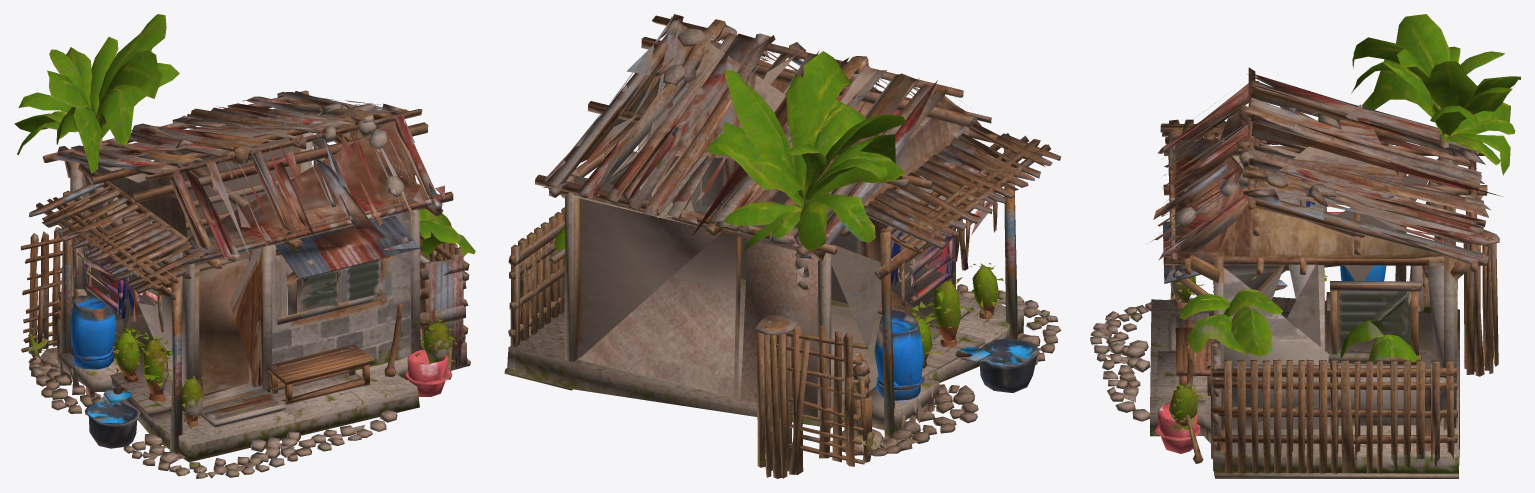
File: house_1.glb
The picture shows the model from 3 angles, left to right: view 1: azimuth 30°, elevation 25°; view 2: azimuth 150°, elevation 25°; view 3: azimuth 270°, elevation 25°; orthographic projection. The views are drawn at different scales.
Parts seen in each view (by area): view 1: Mesh0; view 2: Mesh0; view 3: Mesh0.
Part boxes in pixels (x1=…): Mesh0: x1=14, y1=14, x2=475, y2=478; Mesh0: x1=504, y1=14, x2=1061, y2=478; Mesh0: x1=1090, y1=14, x2=1520, y2=478.
Bounding box in the file's own units: 1 × 0.8726 × 0.998.
1 material, 1 textured.
